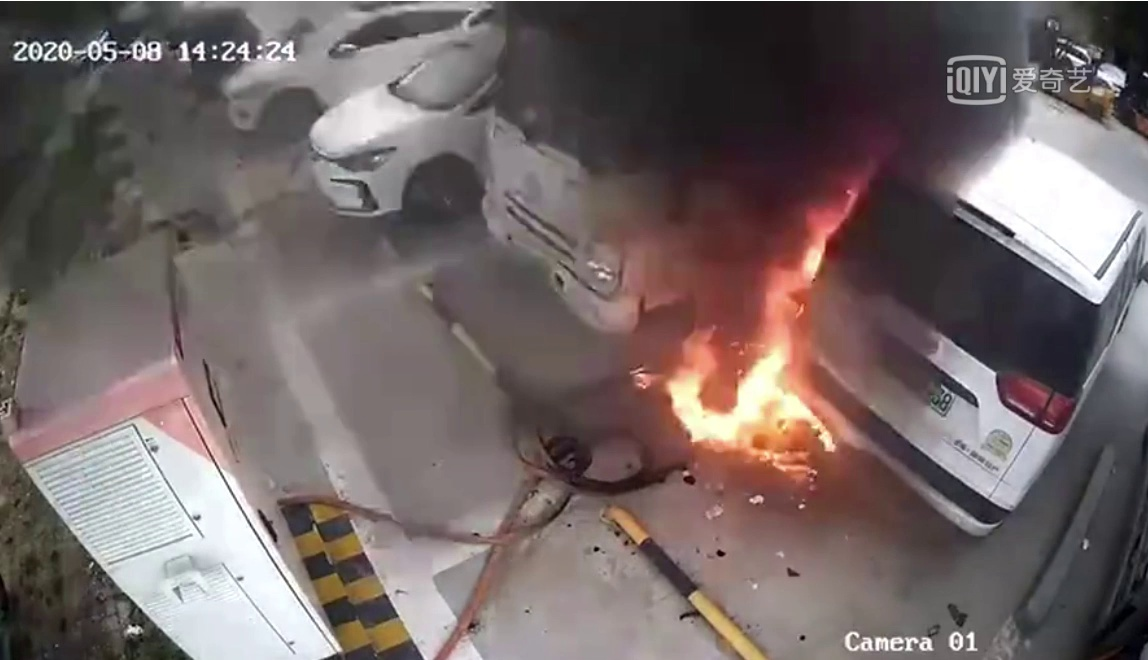fire: (689, 240, 863, 485)
smoke: (479, 12, 995, 212)
